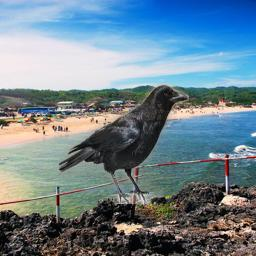Crow: (59, 84, 189, 204)
